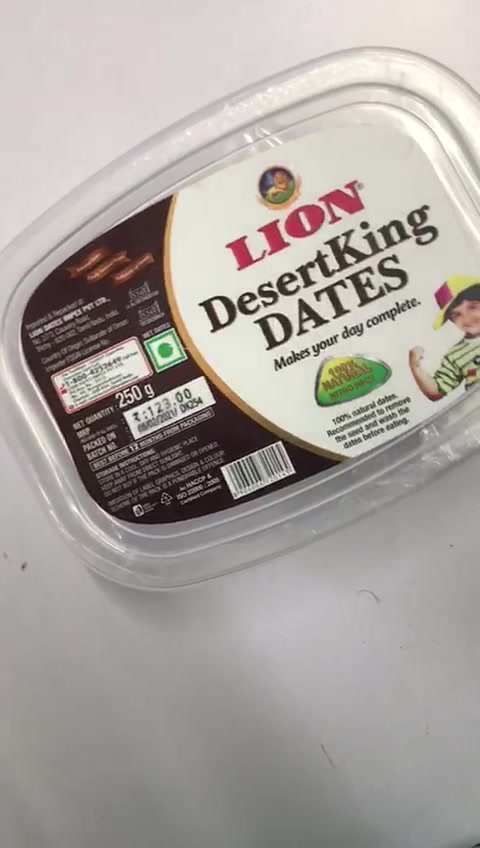Lion dates: (6, 48, 479, 588)
